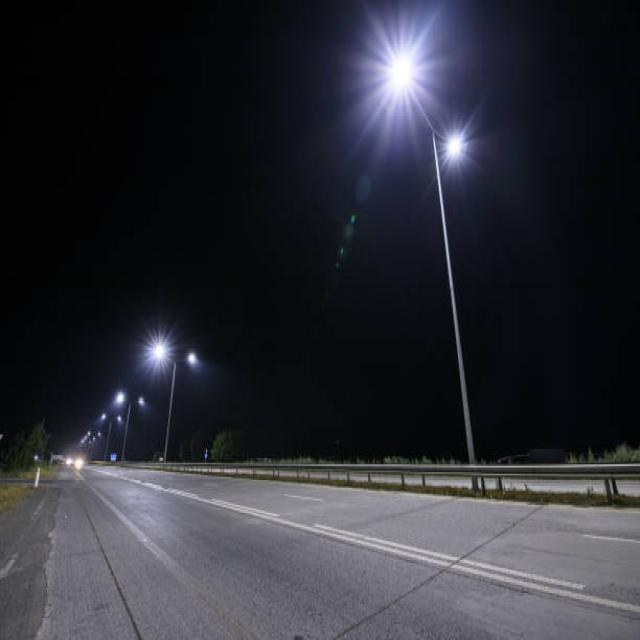acesa: (362, 20, 425, 116), (140, 330, 176, 371), (439, 121, 470, 166)
